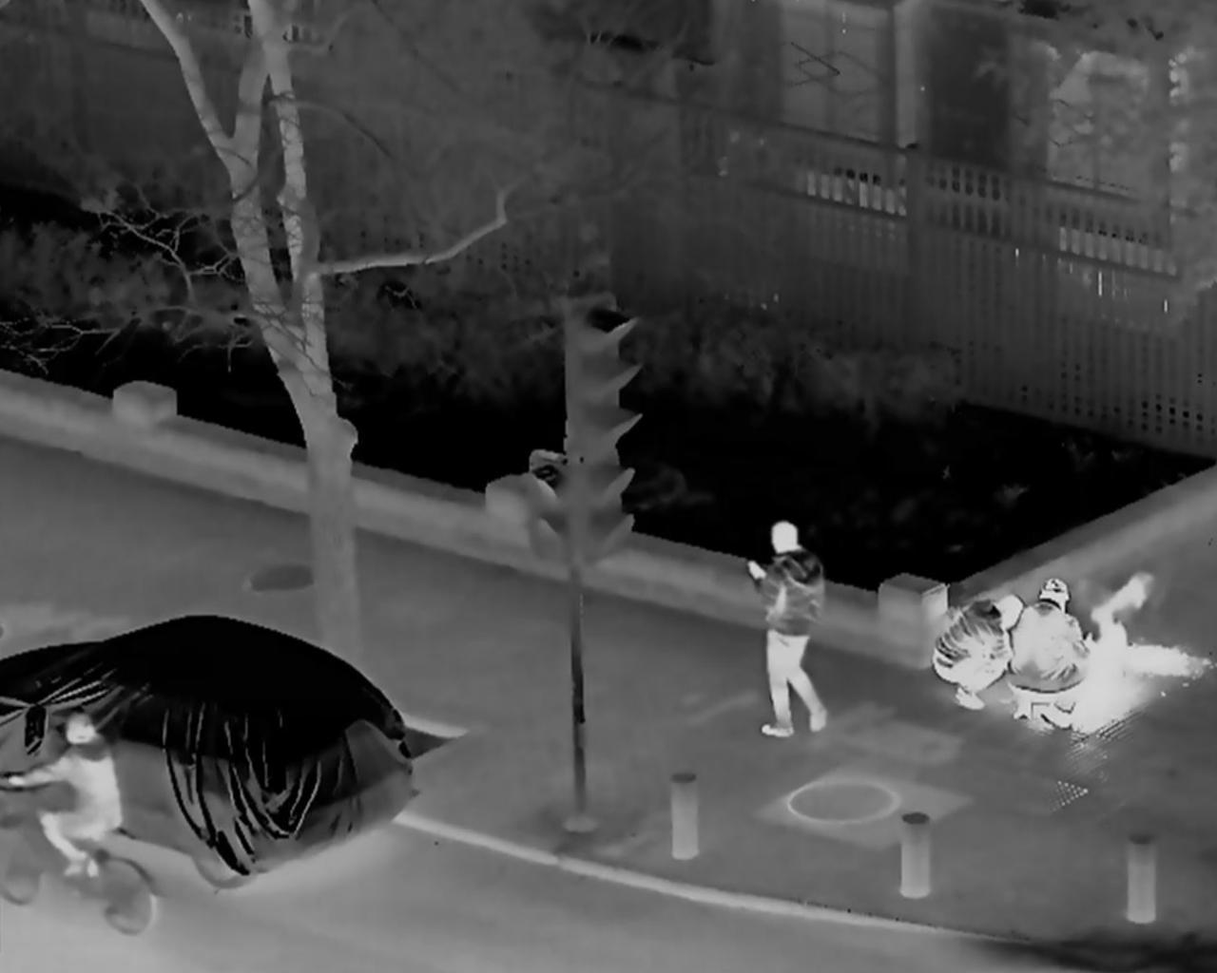person: (7, 716, 125, 878), (749, 519, 830, 740), (1013, 582, 1086, 732), (934, 594, 1018, 710)
